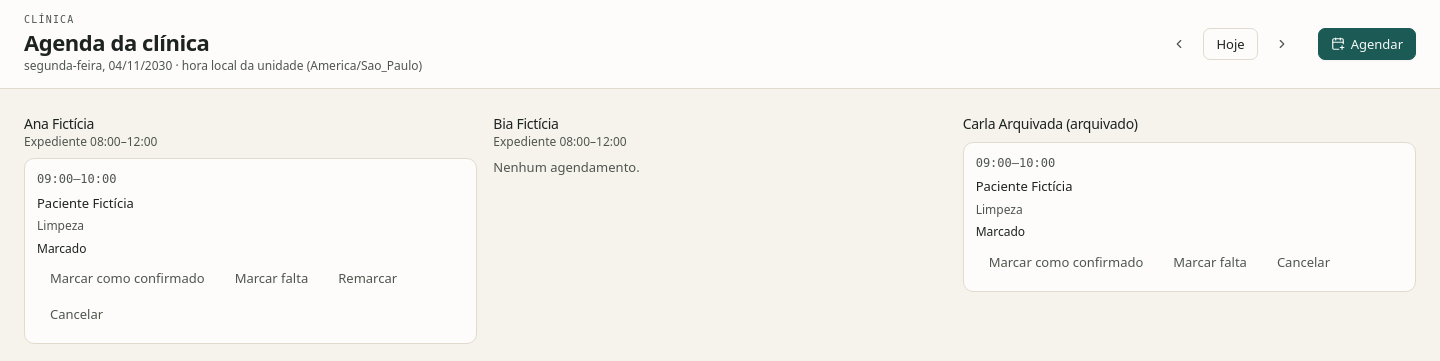
it: Agenda da clínica (F2.3) › recarga que FALHA depois de um sucesso: some tudo do dia, inclusive a coluna do arquivado
Expected: the element named "Agenda de Carla Arquivada (arquivado)" is shown, left=963, top=113, right=1416, bottom=344
Click the button "Marcar como confirmado" below "Ana Fictícia": (127, 279) left=37, top=263, right=218, bottom=295
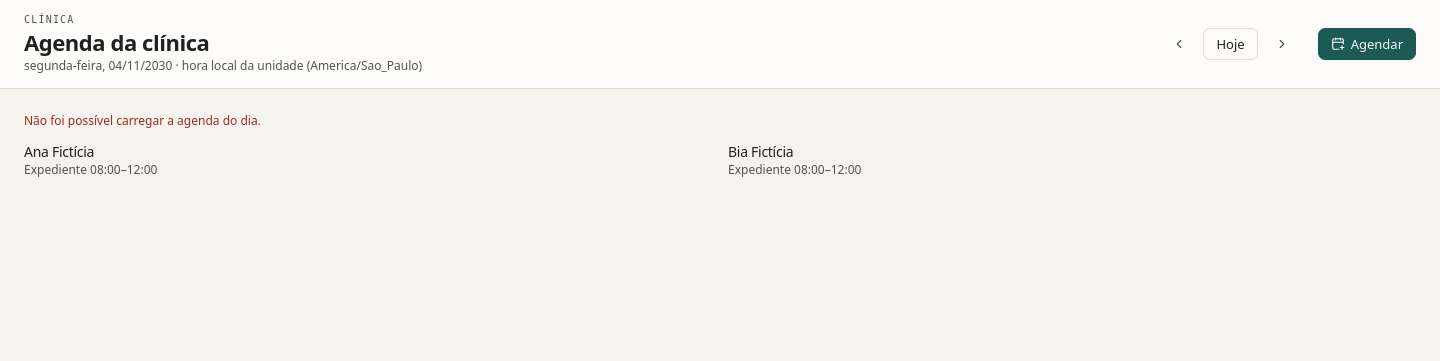
Expected: the text "Não foi possível carregar a agenda do dia." is shown, left=24, top=112, right=261, bottom=129
Expected: the heading "arquivado" is gone
